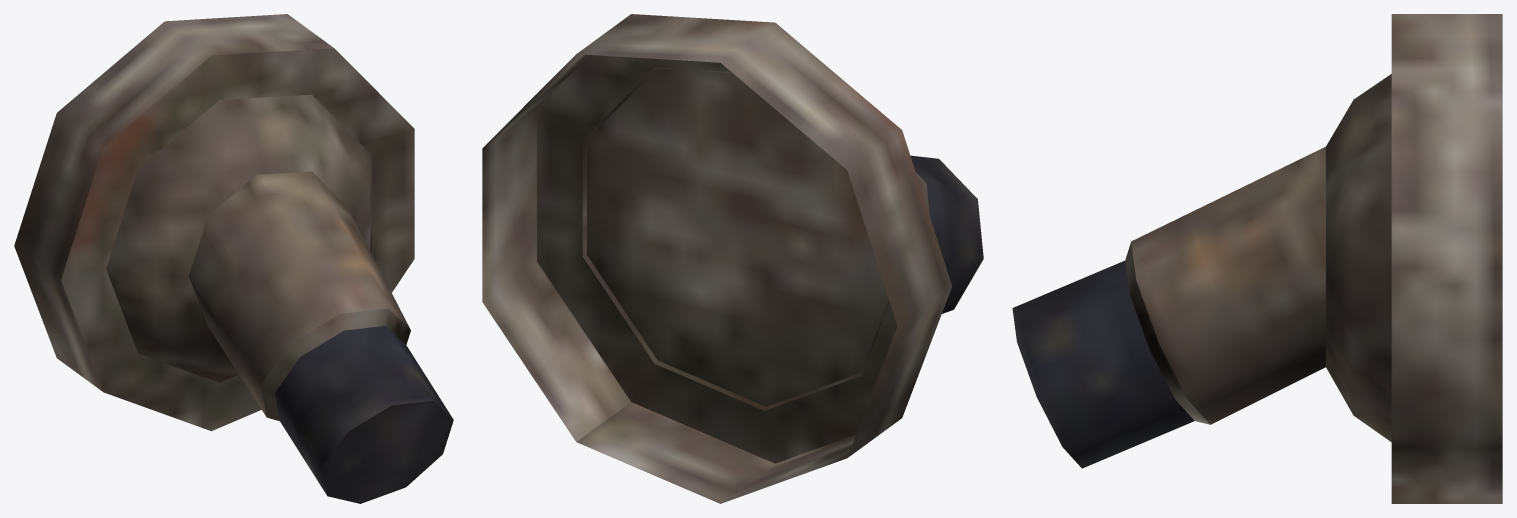
File: BulbHolder_Side.FBX
3 renders of one model, left to right at view 1: azimuth 30°, elevation 25°; view 2: azimuth 150°, elevation 25°; view 3: azimuth 270°, elevation 25°, orthographic. The views are drawn at different scales.
Parts seen in each view (by area): view 1: BulbHolder_Side; view 2: BulbHolder_Side; view 3: BulbHolder_Side.
Part boxes in pixels (bbox=[...]): BulbHolder_Side: bbox=[14, 14, 453, 503]; BulbHolder_Side: bbox=[482, 14, 983, 503]; BulbHolder_Side: bbox=[1012, 14, 1502, 503].
Bounding box in the file's own units: 9.5 × 9.65 × 9.61.
